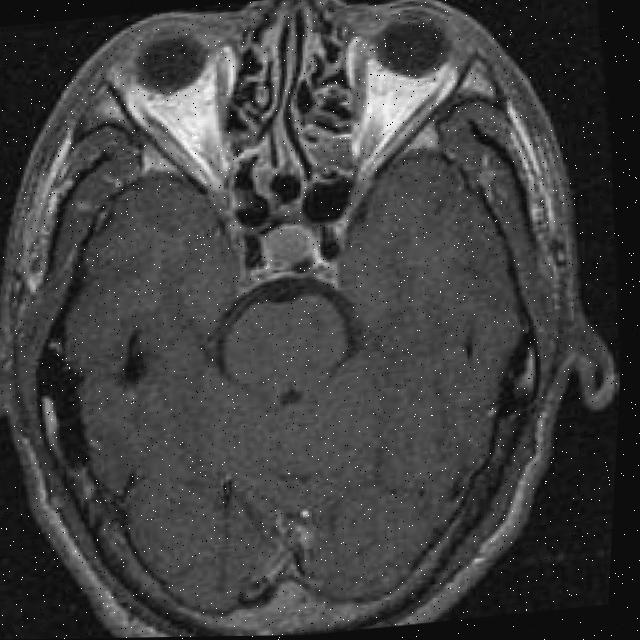Pituitary: (254, 218, 317, 272)
